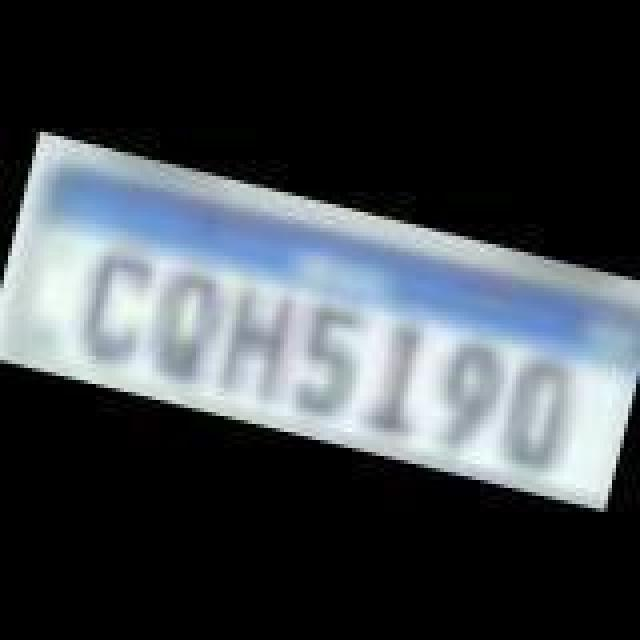5: (288, 298, 368, 422)
9: (422, 328, 514, 456)
C: (66, 244, 158, 372)
D: (494, 352, 586, 480)
H: (210, 280, 302, 408)
I: (358, 312, 442, 440)
Q: (144, 264, 232, 392)
